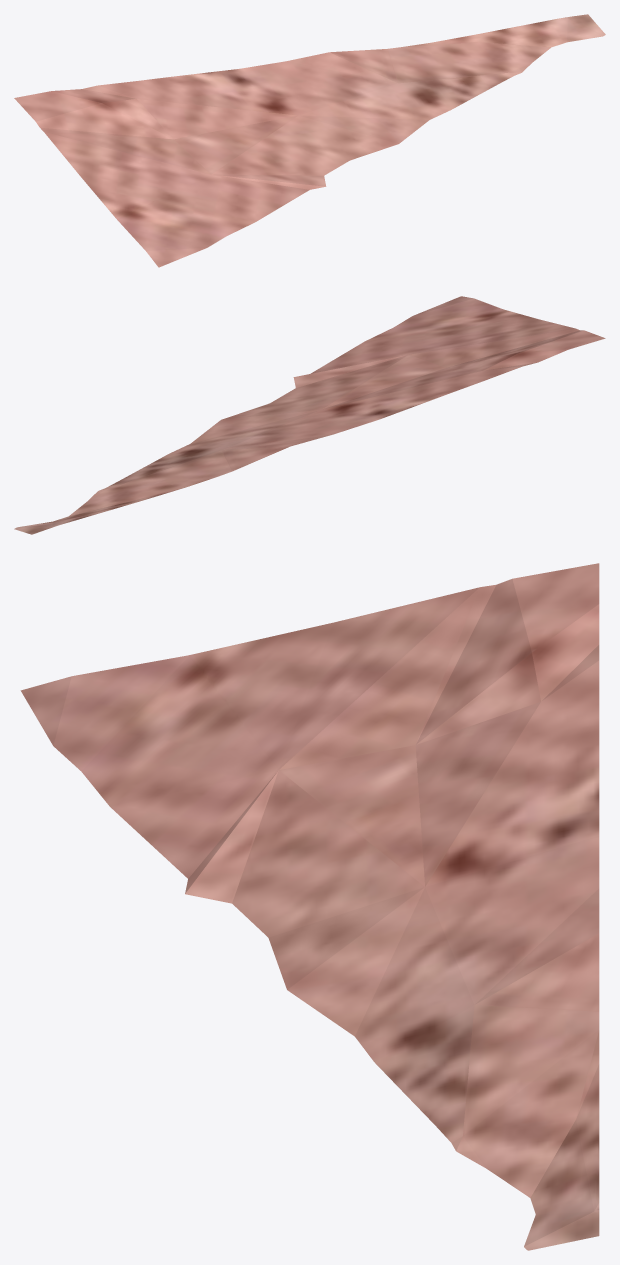
The picture shows the model from 3 angles, top to bottom: view 1: azimuth 30°, elevation 25°; view 2: azimuth 210°, elevation 25°; view 3: azimuth 270°, elevation 25°; orthographic projection. The views are drawn at different scales.
Size of the model in its own units: 3.35 by 0.3551 by 1.46.
1 material, 1 textured.
